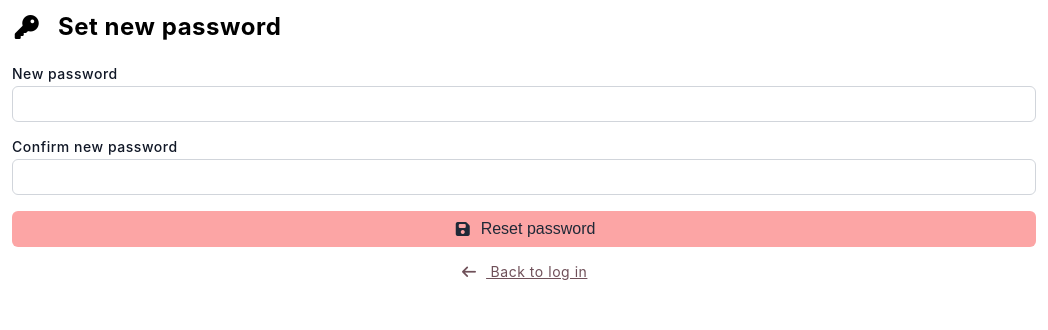
Scenario: PasswordResetConfirmView › shows the invalid-token notice on a 400
The image size is (1048, 330).
Type "new-secret" into the password field labelled "New password" at (524, 104), box left=12, top=86, right=1036, bottom=122
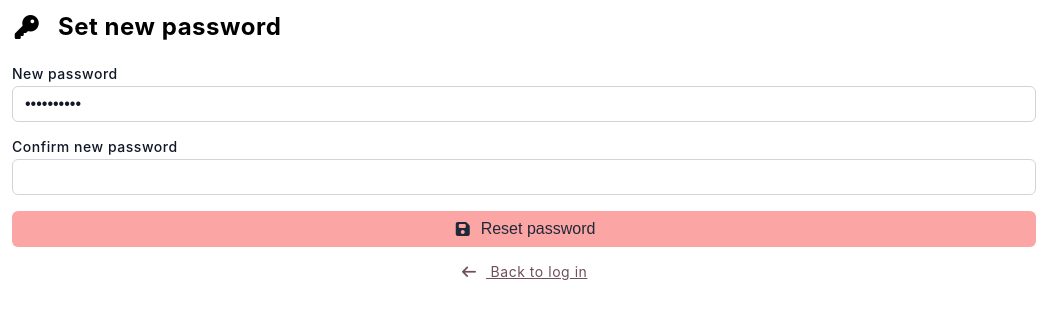
Type "new-secret" into the password field labelled "Confirm new password" at (524, 177), box left=12, top=159, right=1036, bottom=195
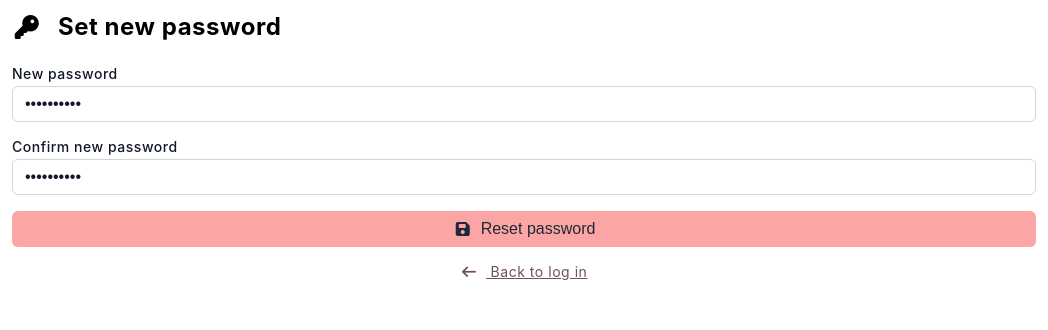
Submit the form
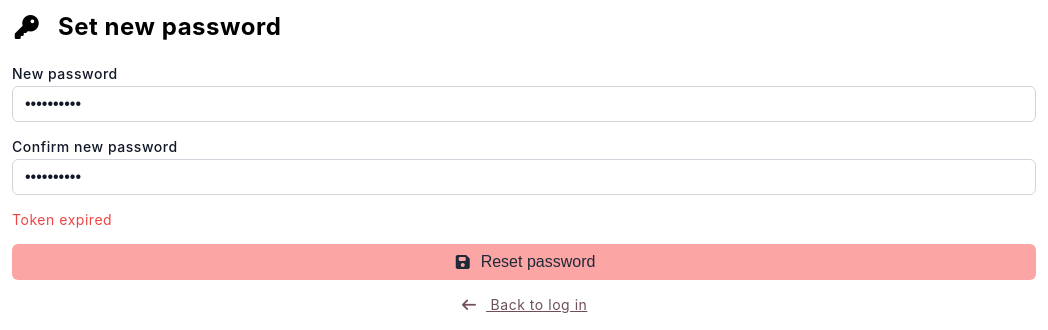
Expected: the form shows "Token expired", left=12, top=211, right=112, bottom=228
